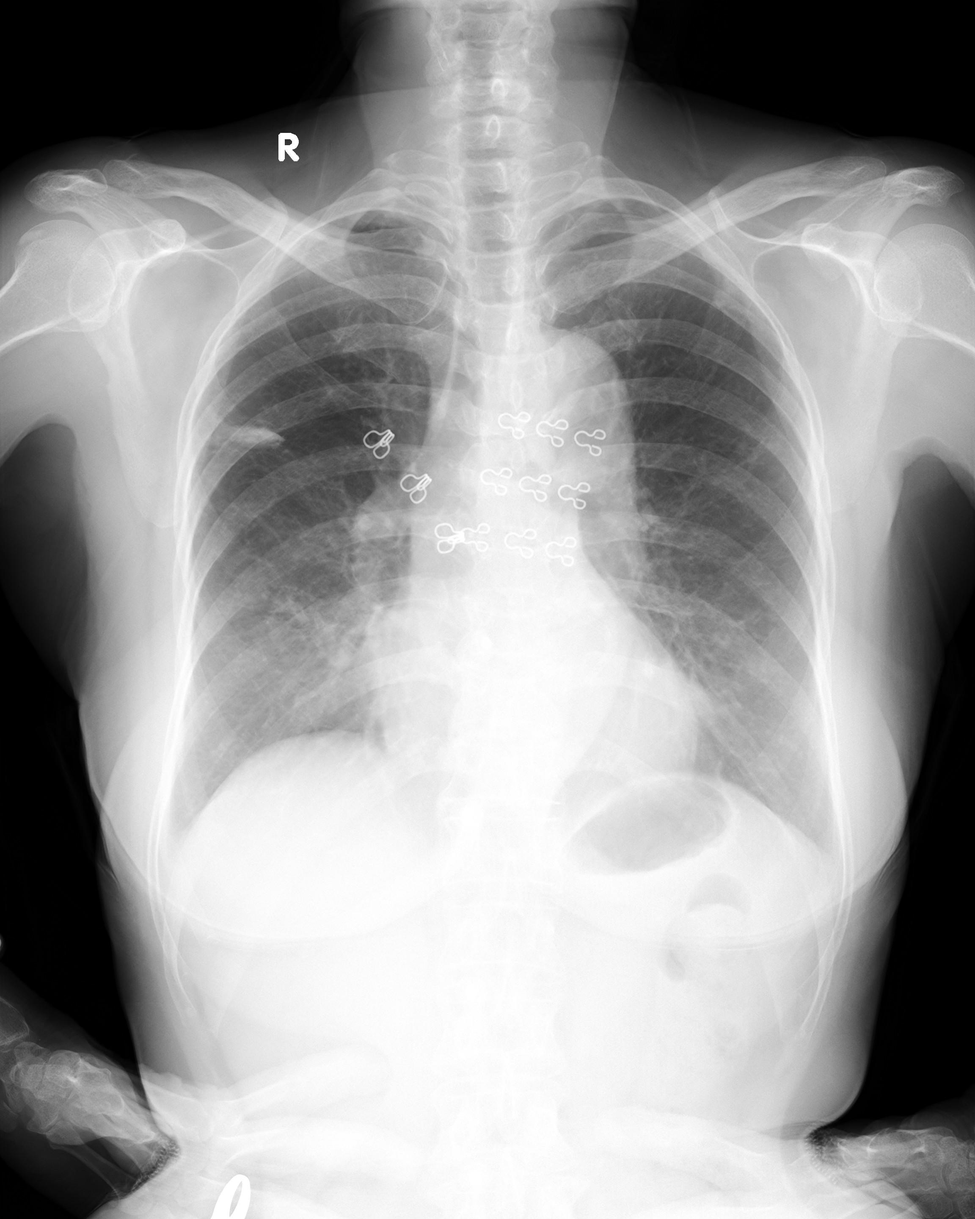Aortic enlargement: (500, 325, 635, 462)
Pleural thickening: (546, 197, 675, 241), (347, 210, 447, 242)
Pulmonary fibrosis: (251, 556, 328, 642), (217, 416, 294, 456), (664, 625, 702, 677)
